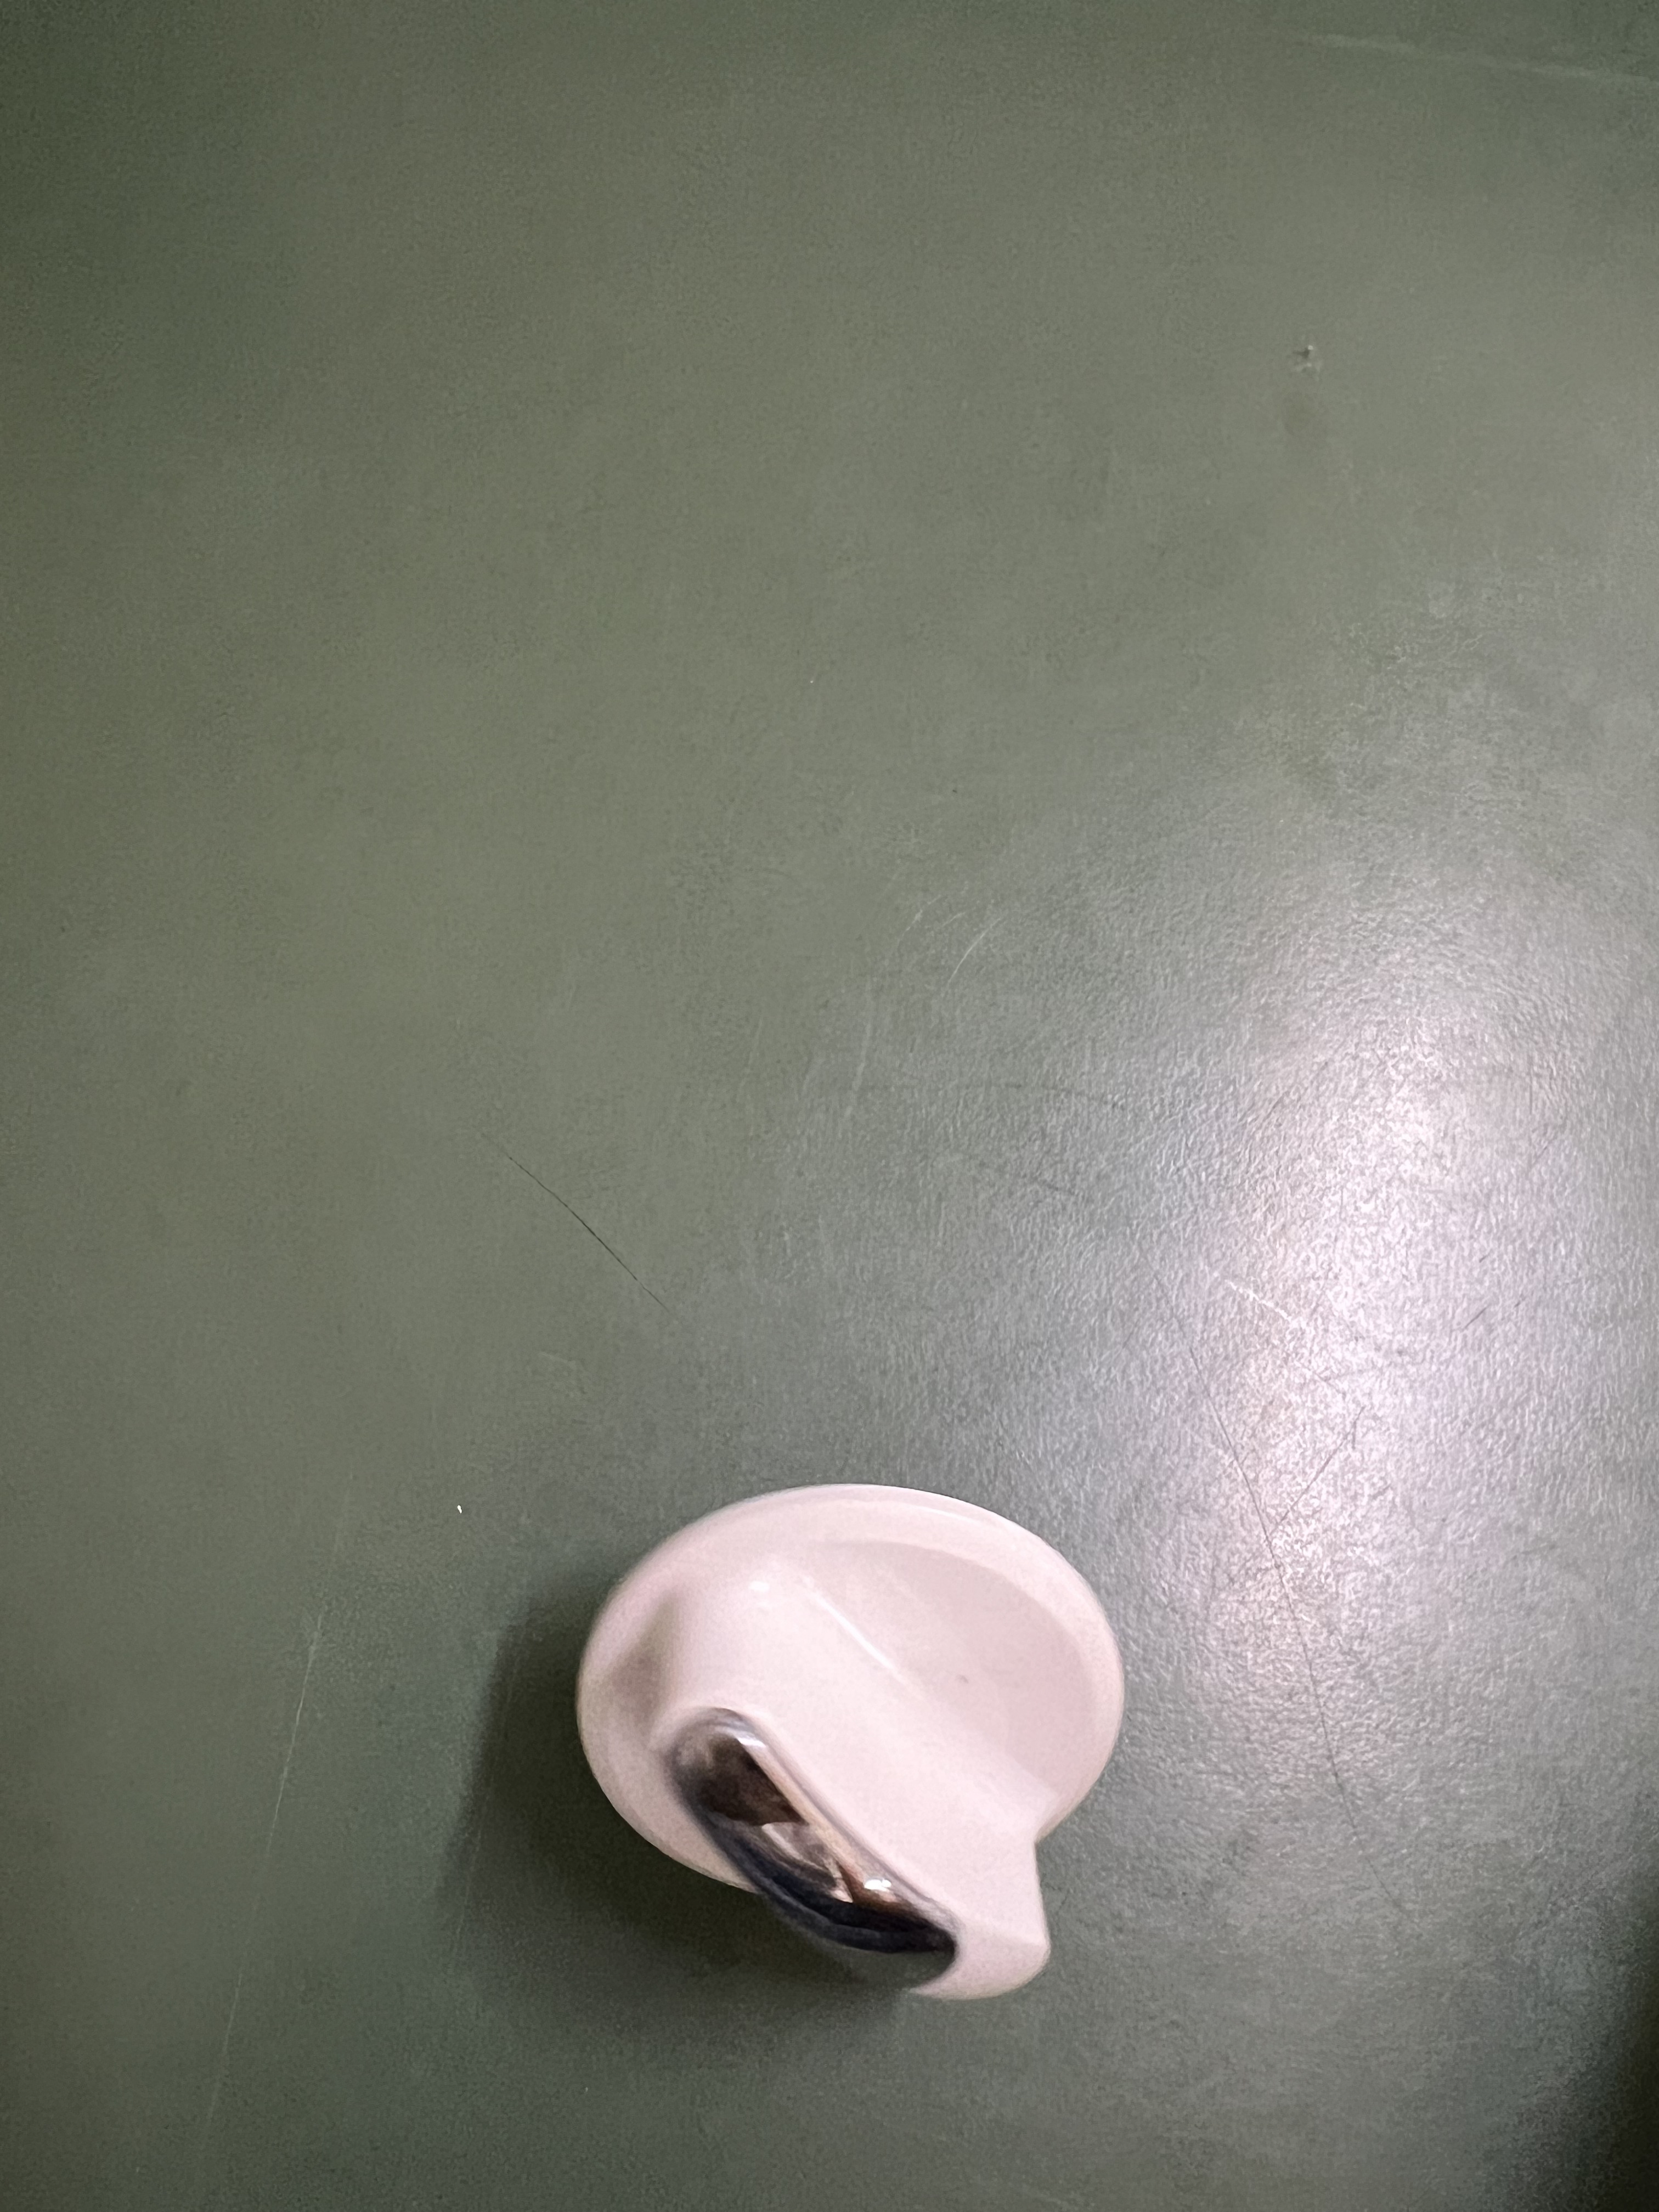regulator: (540, 1467, 1190, 2043)
